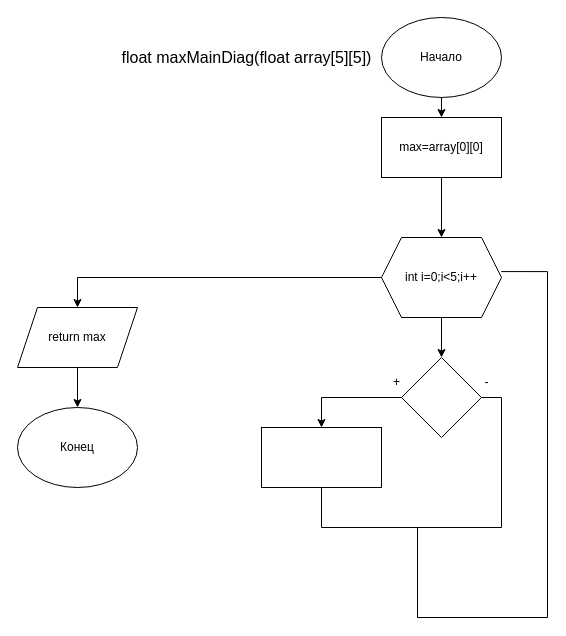
The diagram is 566 pixels wide and 636 high, and some of its shapes have lost their labels. Each missing label, with the centre of its shape:
array[i][i]>max: the point at 441,397
max = array[i][i]: the point at 321,457
